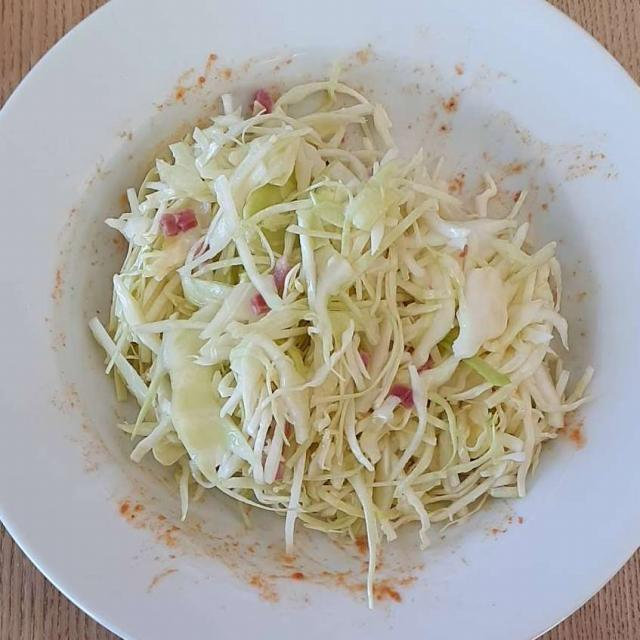cabbage: (102, 87, 575, 583)
